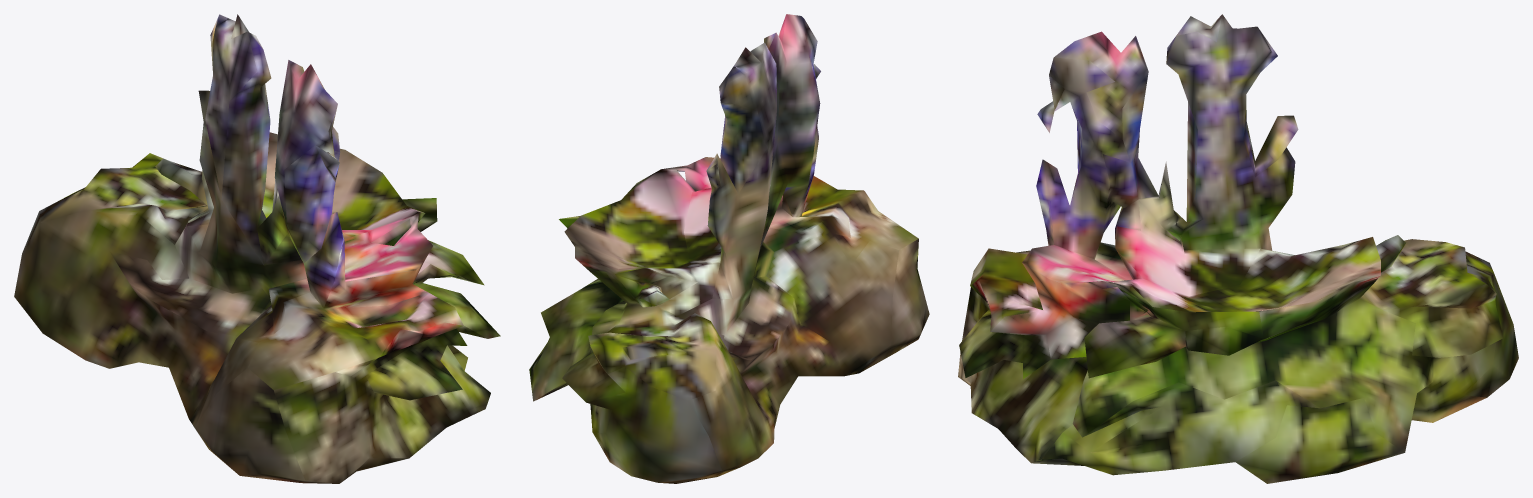
File: SpringDecor_BossRoom_FlowerSprout.fbx
3 renders of one model, left to right at view 1: azimuth 30°, elevation 25°; view 2: azimuth 150°, elevation 25°; view 3: azimuth 270°, elevation 25°, orthographic. The views are drawn at different scales.
Visible parts, largest first — view 1: SpringDecor_BossRoom_FlowerSprout_Mesh; view 2: SpringDecor_BossRoom_FlowerSprout_Mesh; view 3: SpringDecor_BossRoom_FlowerSprout_Mesh.
Part boxes in pixels (box(x1,y1,x2,y2)): SpringDecor_BossRoom_FlowerSprout_Mesh: box(14, 14, 500, 483); SpringDecor_BossRoom_FlowerSprout_Mesh: box(529, 14, 929, 483); SpringDecor_BossRoom_FlowerSprout_Mesh: box(958, 14, 1518, 483).
Bounding box in the file's own units: 3.91 × 4.55 × 6.
Materials: 1 (1 with a texture image).
